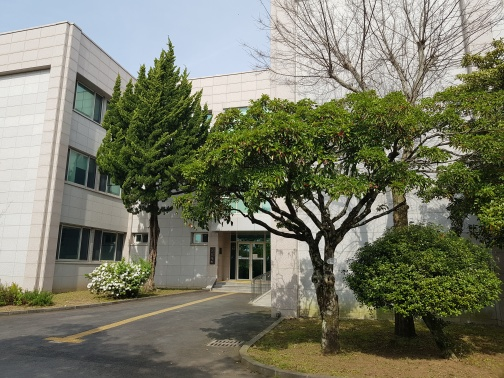College of Nursing: (25, 23, 479, 312)
